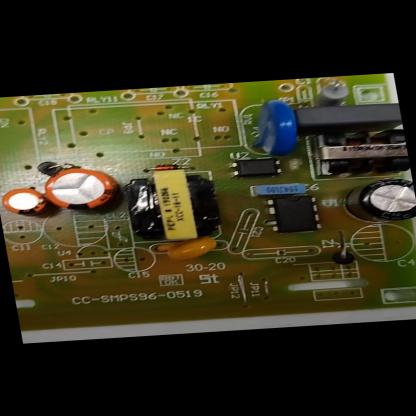Cap1: (40, 166, 120, 212)
Cap2: (0, 186, 50, 215)
Cap3: (336, 177, 416, 225)
MOSFET: (264, 195, 323, 233)
Mov: (244, 98, 302, 155)
Resistor: (308, 80, 350, 106)
Transformer: (120, 167, 218, 244), (311, 126, 410, 176)
